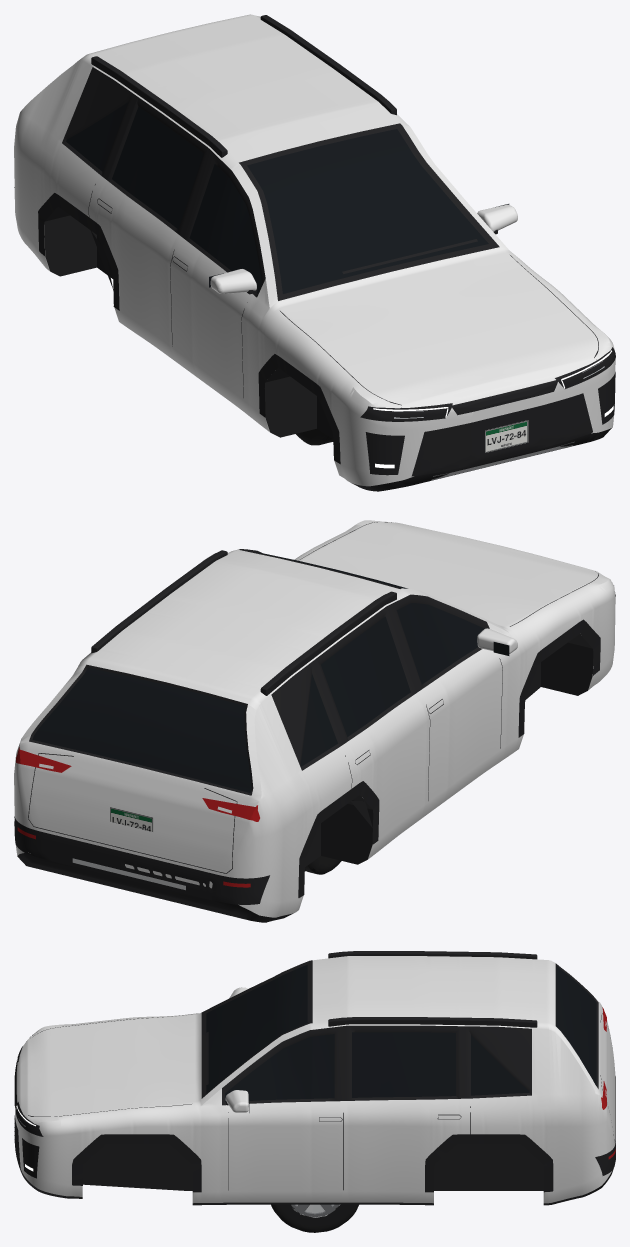
File: toyota-rav4.glb
The picture shows the model from 3 angles, top to bottom: view 1: azimuth 30°, elevation 25°; view 2: azimuth 150°, elevation 25°; view 3: azimuth 270°, elevation 25°; orthographic projection. The views are drawn at different scales.
Visible parts, largest first — view 1: body; view 2: body; view 3: body, wheel, lod1_wheel.
Boxes of the visible parts, bbox=[...] form: body: bbox=[14, 14, 615, 491]; body: bbox=[14, 520, 615, 922]; body: bbox=[14, 951, 615, 1205]; wheel: bbox=[271, 1204, 357, 1232]; lod1_wheel: bbox=[274, 1204, 358, 1232].
Size of what is drawn, in the model's own units: 2.12 by 2.05 by 4.6.
Materials: 1 (1 with a texture image).
